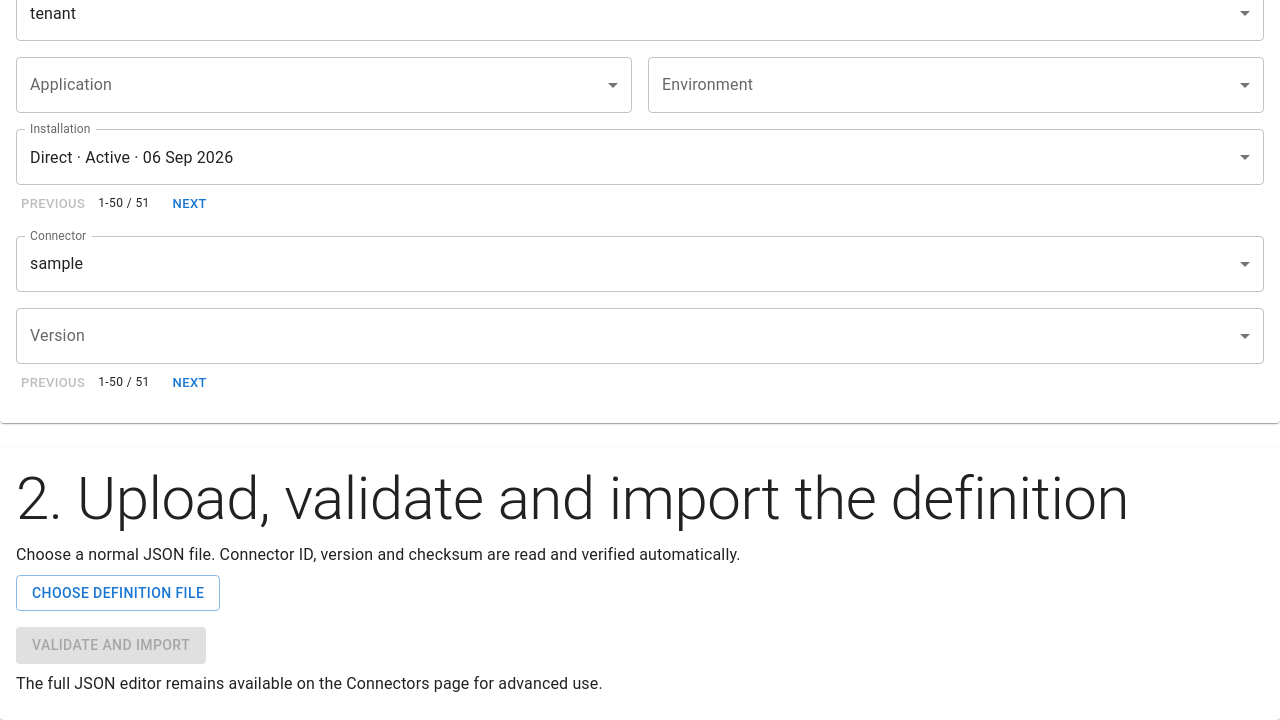
guided selection and targeted refresh › selects a version from page 2 and loads its definition through the point lookup
This screenshot has width=1280, height=720.
(page scrolled)
Click the 2nd button "Next".
click(190, 383)  # box [158,368,222,399]
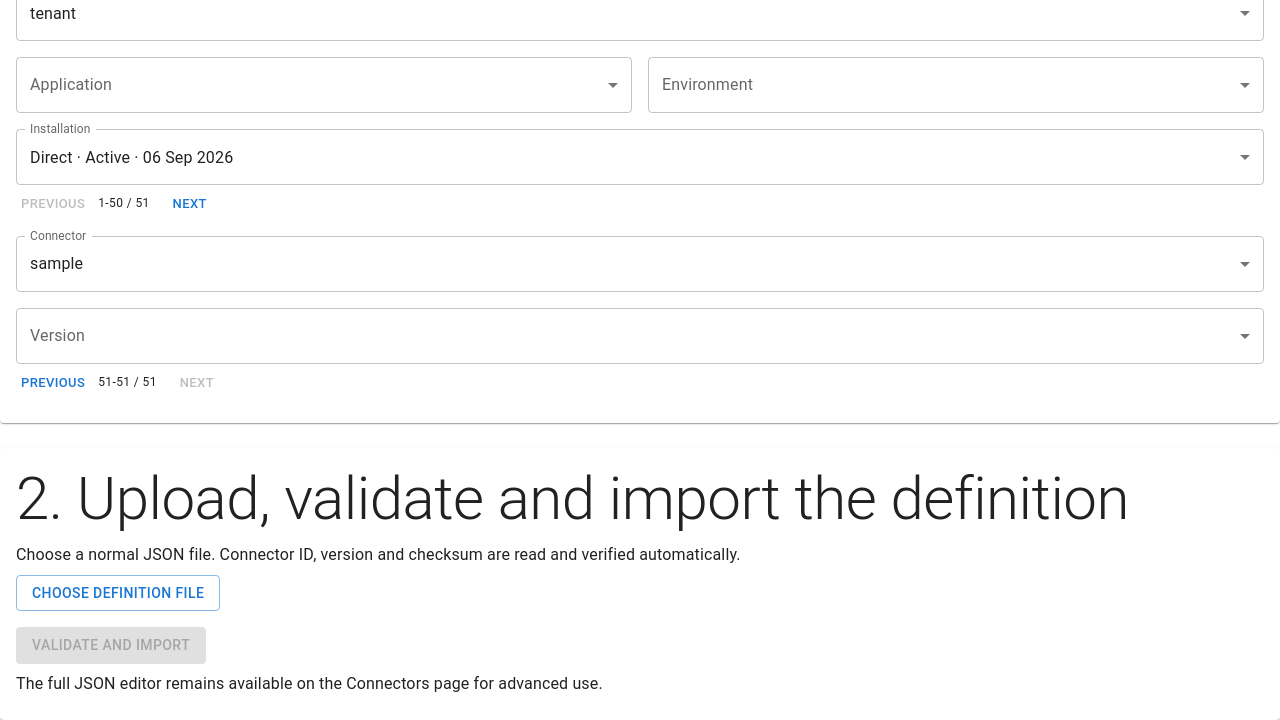
Check: the button "Previous" next to "51-51" is enabled, box [16,368,90,399]
Press the mouse on the 3rd dropdown named "Version" at (640, 336), box [16,308,1264,364]
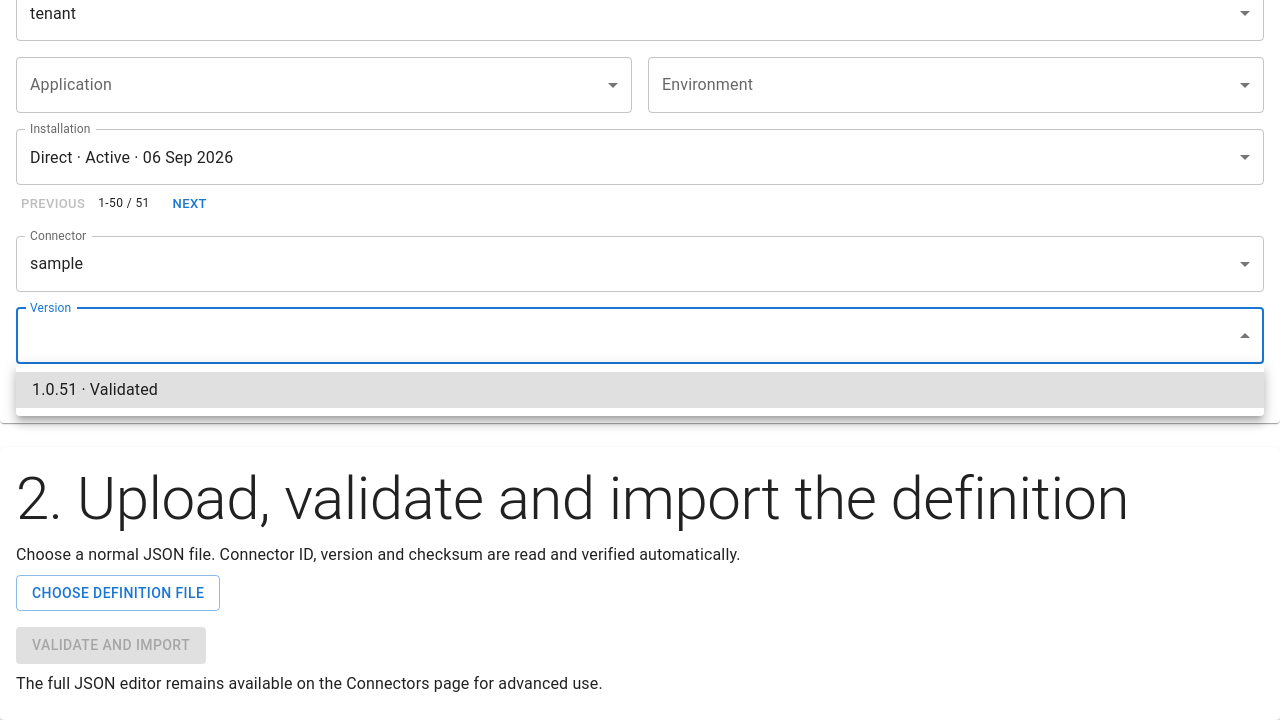
Click the option "1.0.51 · Validated".
click(95, 390)  # box [16,372,1264,408]
(page scrolled)
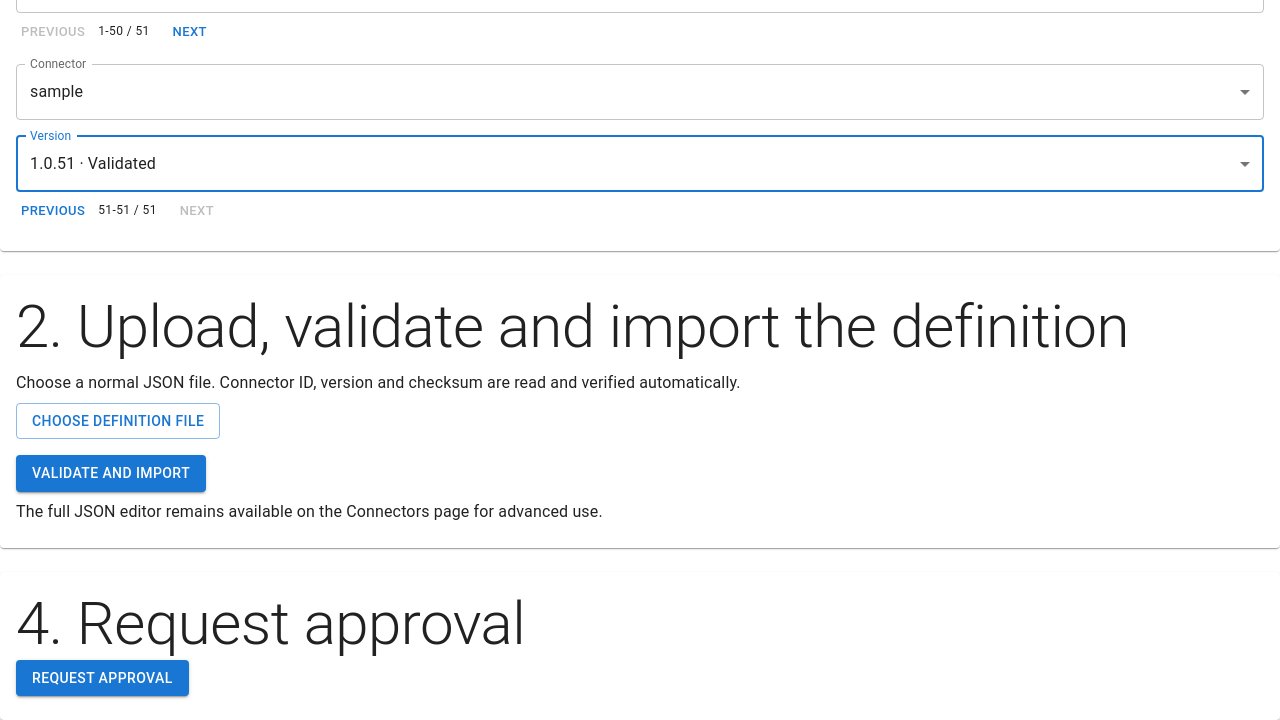
Check: the button "Request approval" is enabled, box [16,660,189,696]
